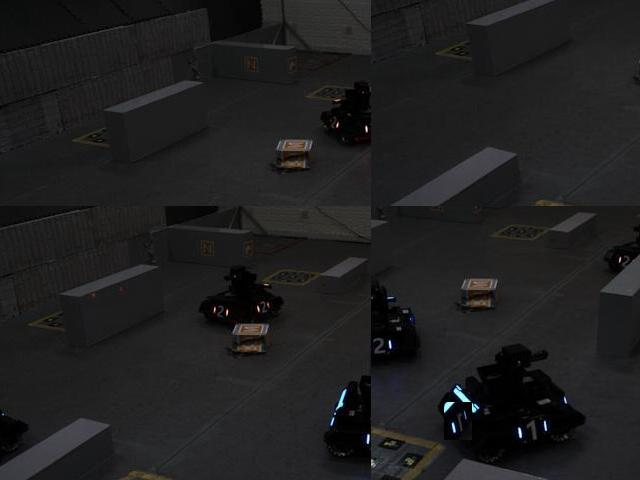armor: (511, 416, 550, 447), (445, 402, 474, 441), (371, 334, 398, 360), (616, 247, 634, 271), (211, 301, 232, 321), (252, 297, 271, 317), (325, 113, 343, 131), (361, 426, 370, 459), (358, 117, 370, 138)
